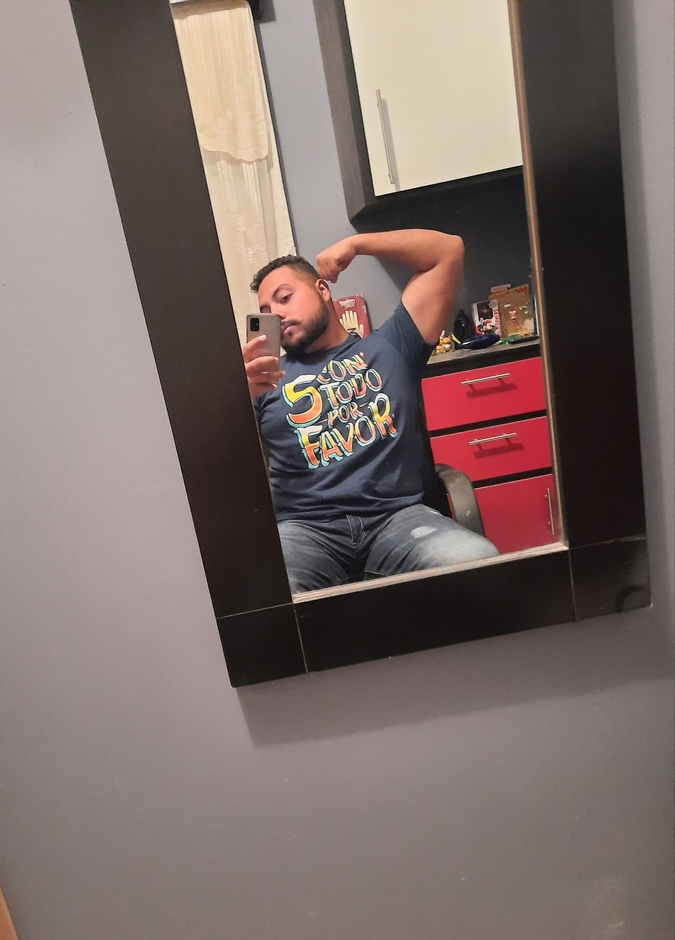Yoshi: (243, 247, 361, 350)
